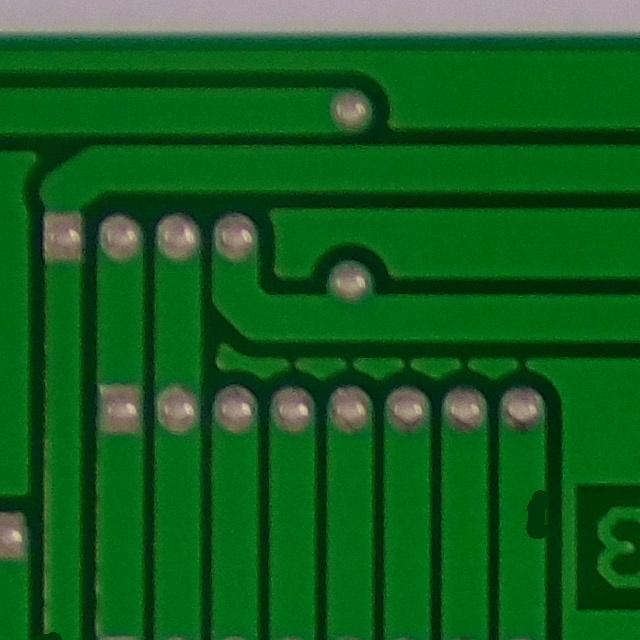mouse_bite: (515, 473, 568, 551)
